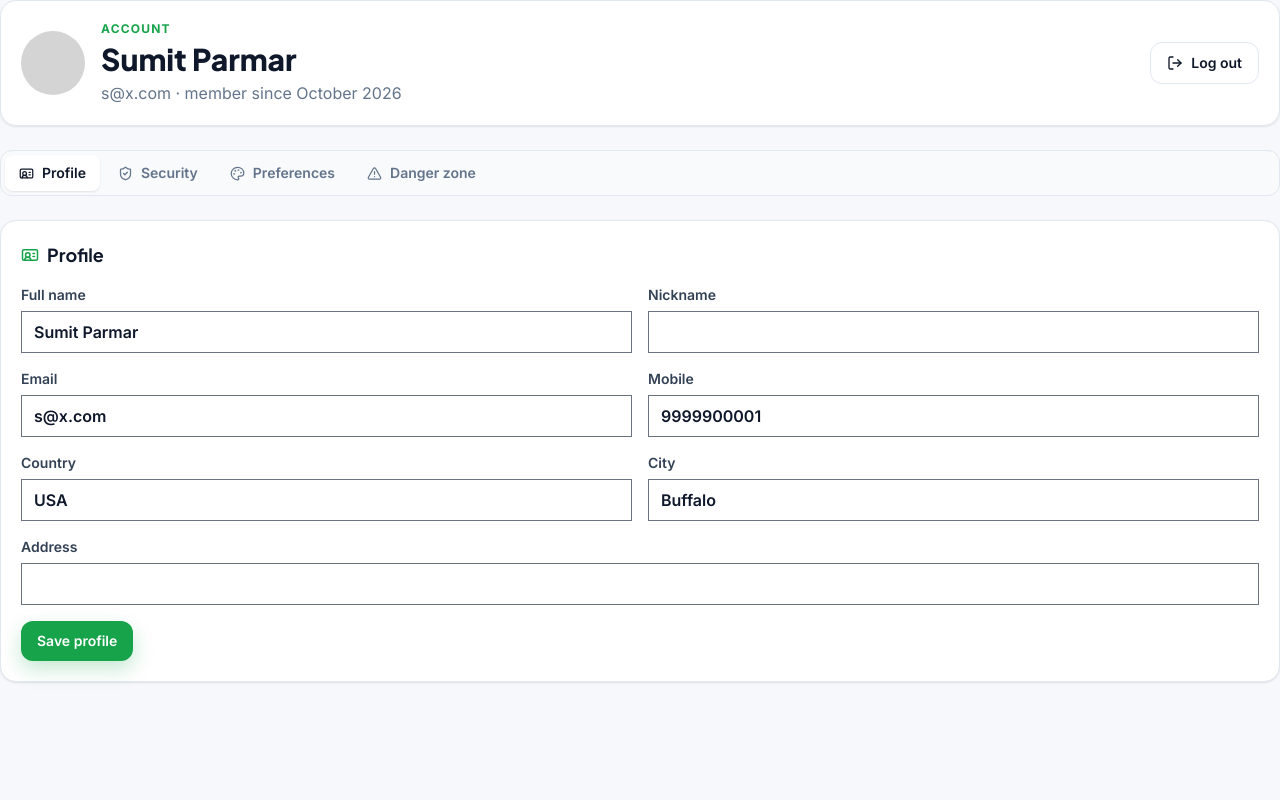
it: Account › after deleting the account you land on the home page, not on the login page
This screenshot has width=1280, height=800.
Expected: the field showing "Buffalo" is shown, [648,479,1259,521]
Click the tab "Danger zone" at {"x": 421, "y": 173}, box [353,155,490,191]
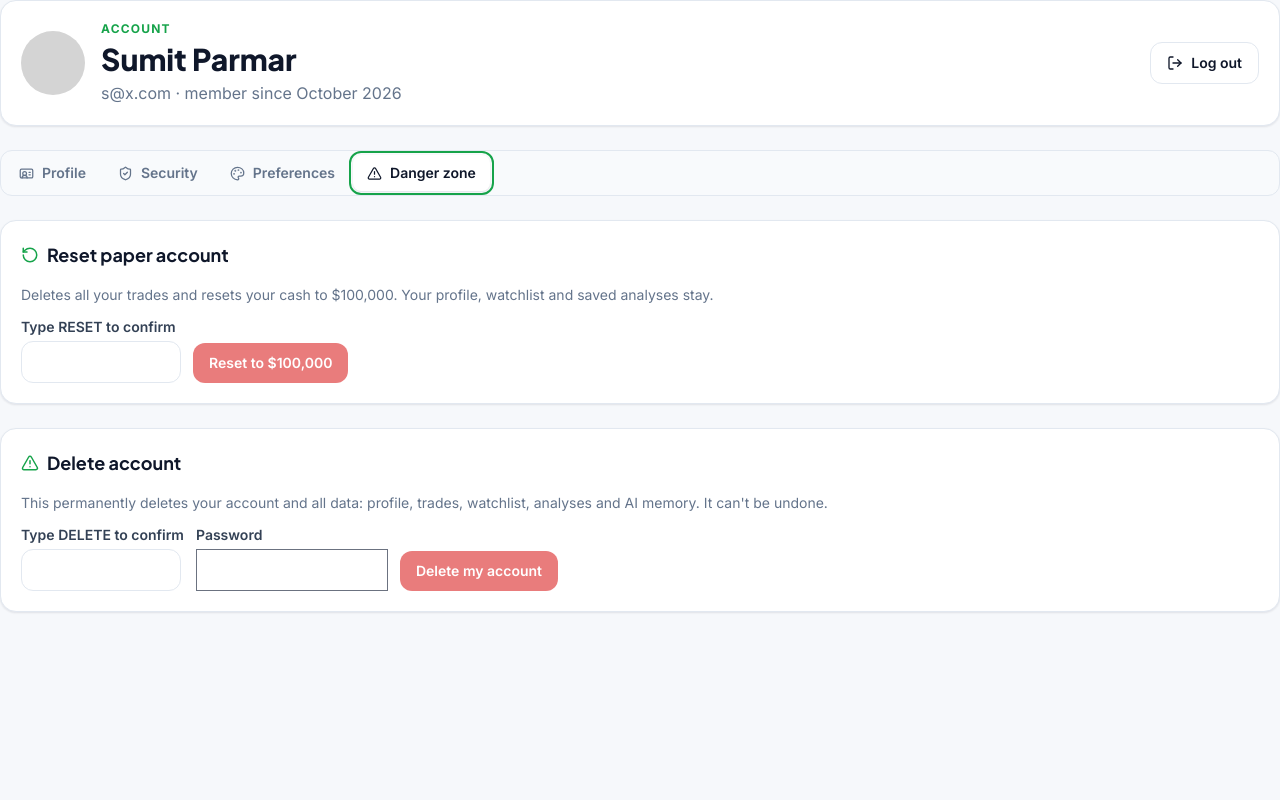
Type "DELETE" into the field labelled "Type DELETE to confirm" at {"x": 101, "y": 570}, box [21,549,181,591]
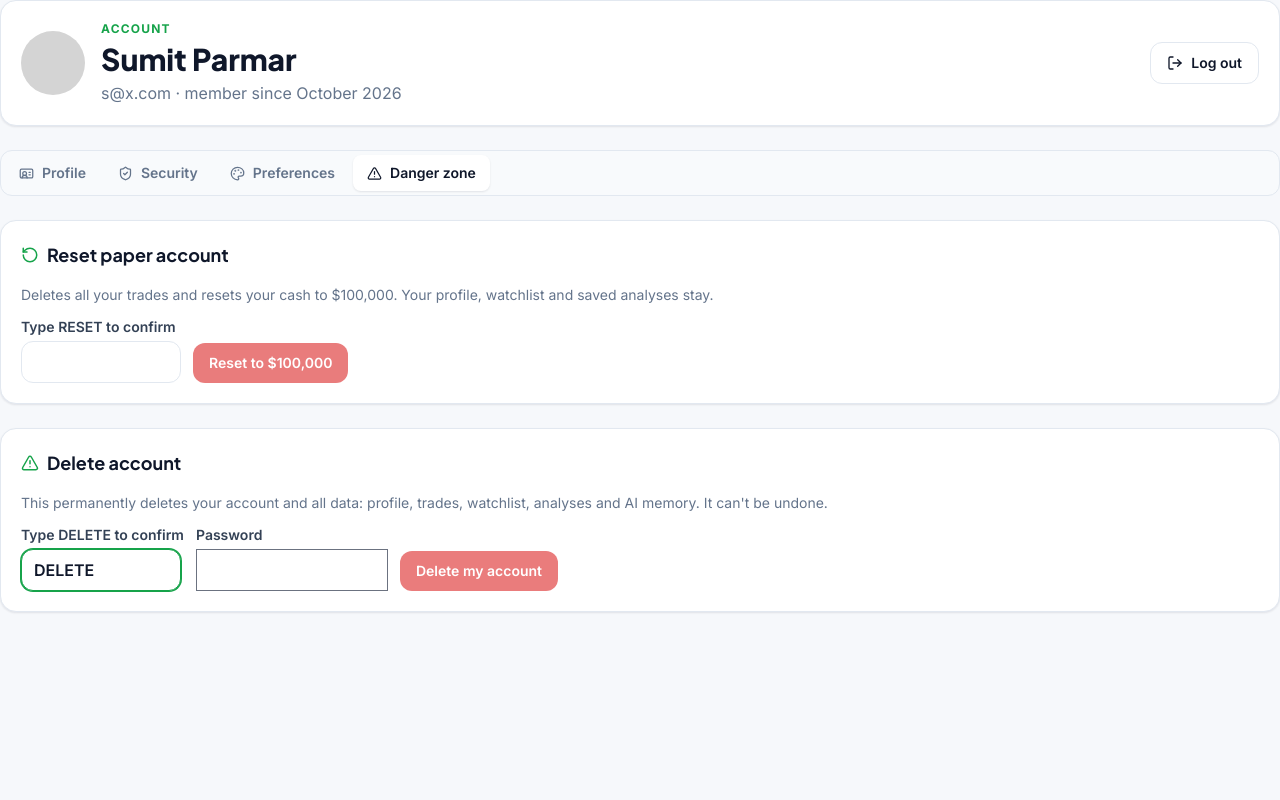
Type "secret1" into the password field named "Password to confirm" at {"x": 292, "y": 570}, box [196,549,388,591]
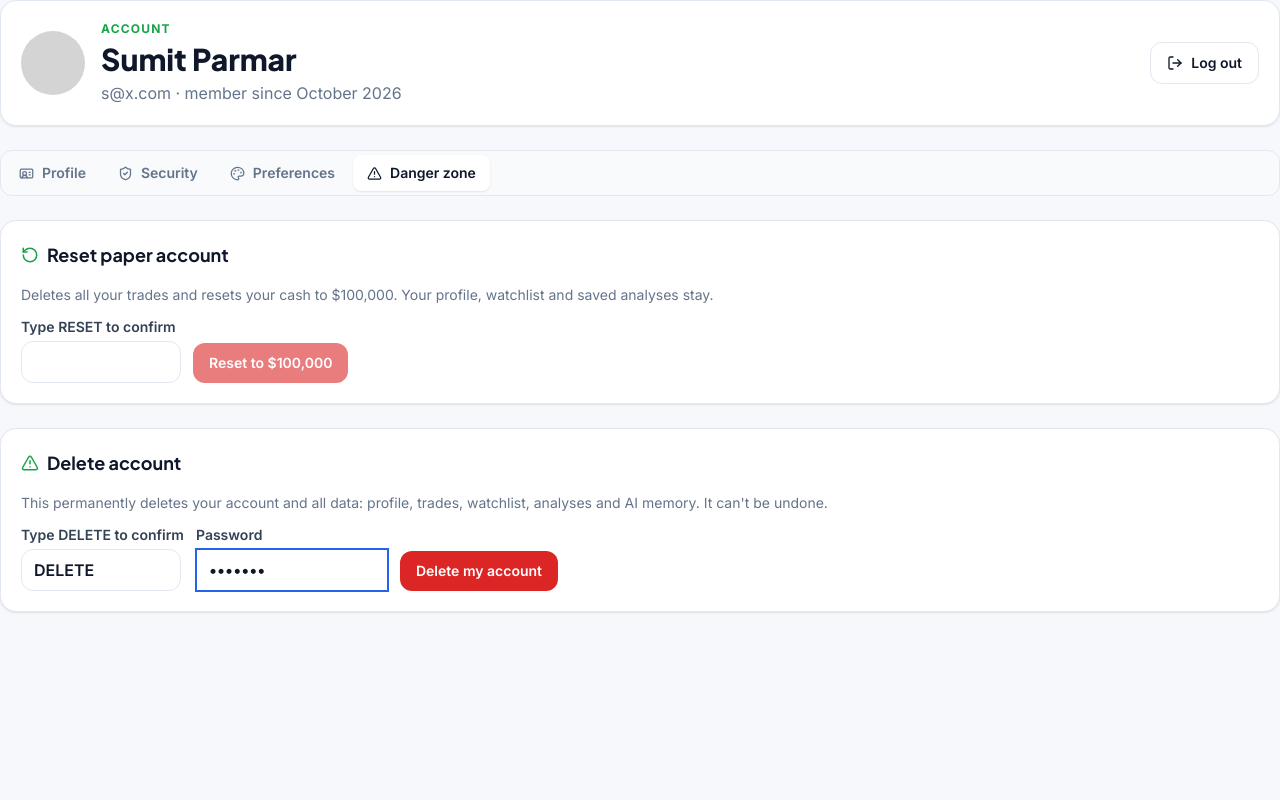
Click the button "Delete my account" at {"x": 479, "y": 571}, box [400,551,558,591]
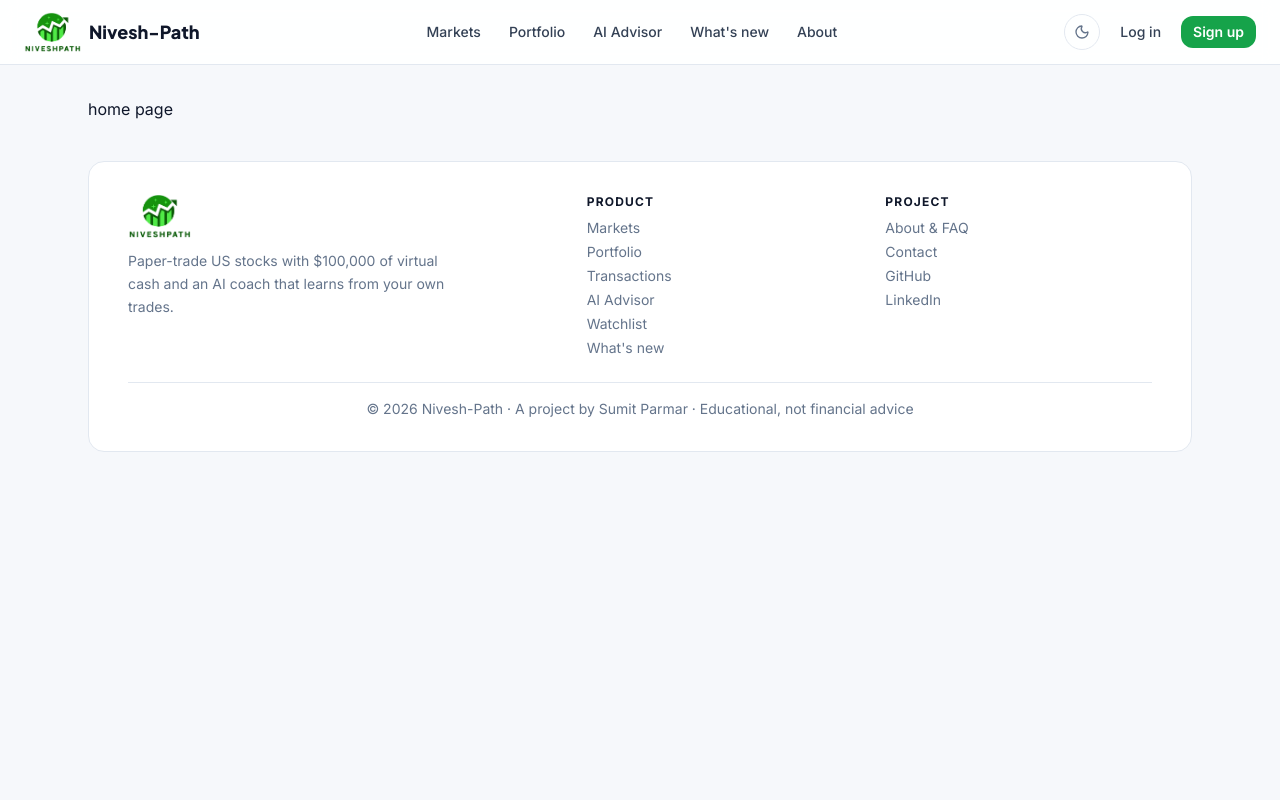
Now the text "home page" is shown, box [88,99,173,119]
